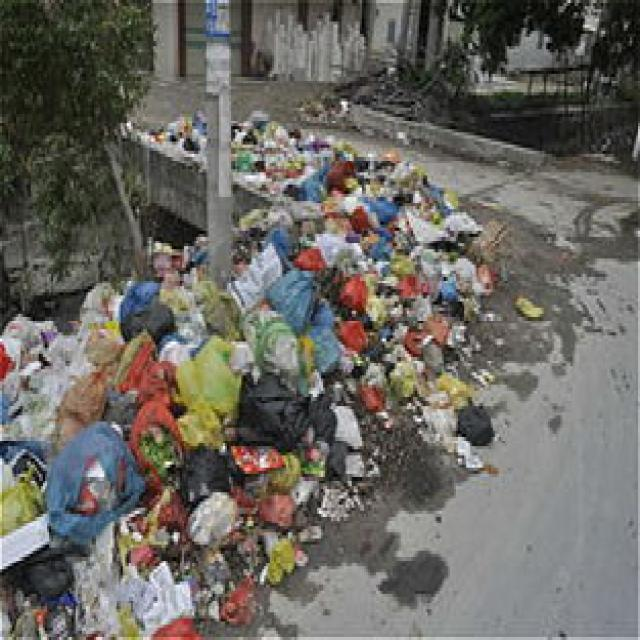garbage: (0, 101, 544, 637)
